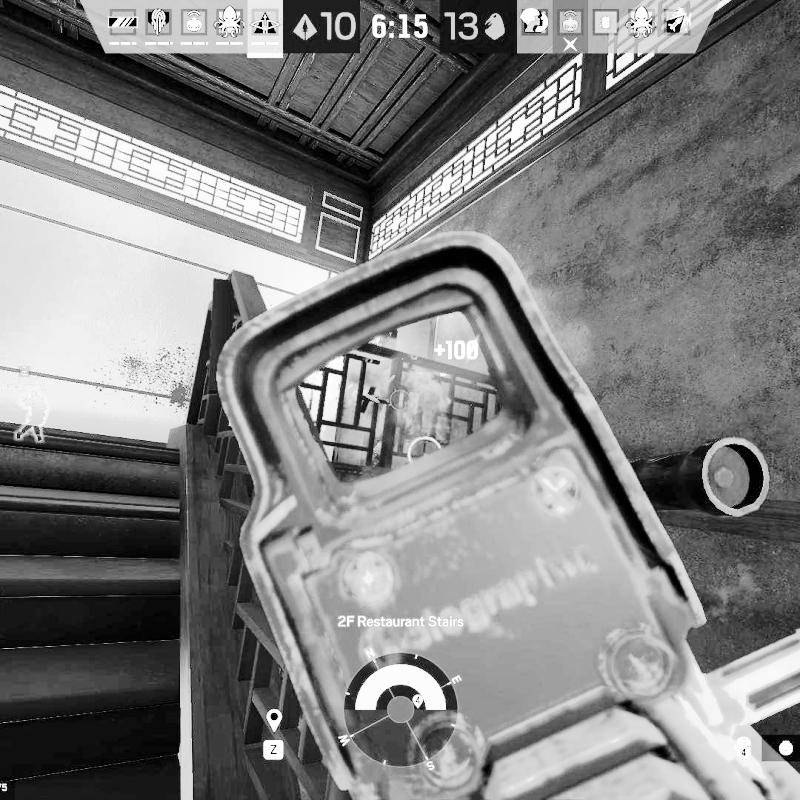Friend_label: (2, 363, 45, 391)
